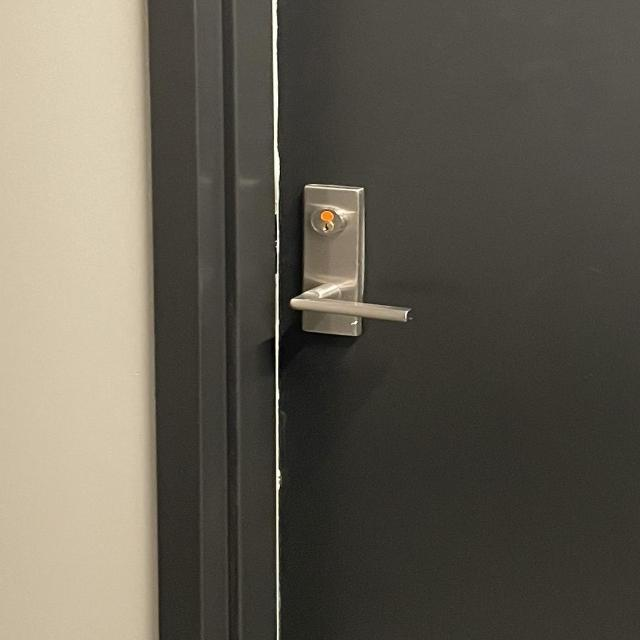door_handle: (276, 274, 426, 339)
